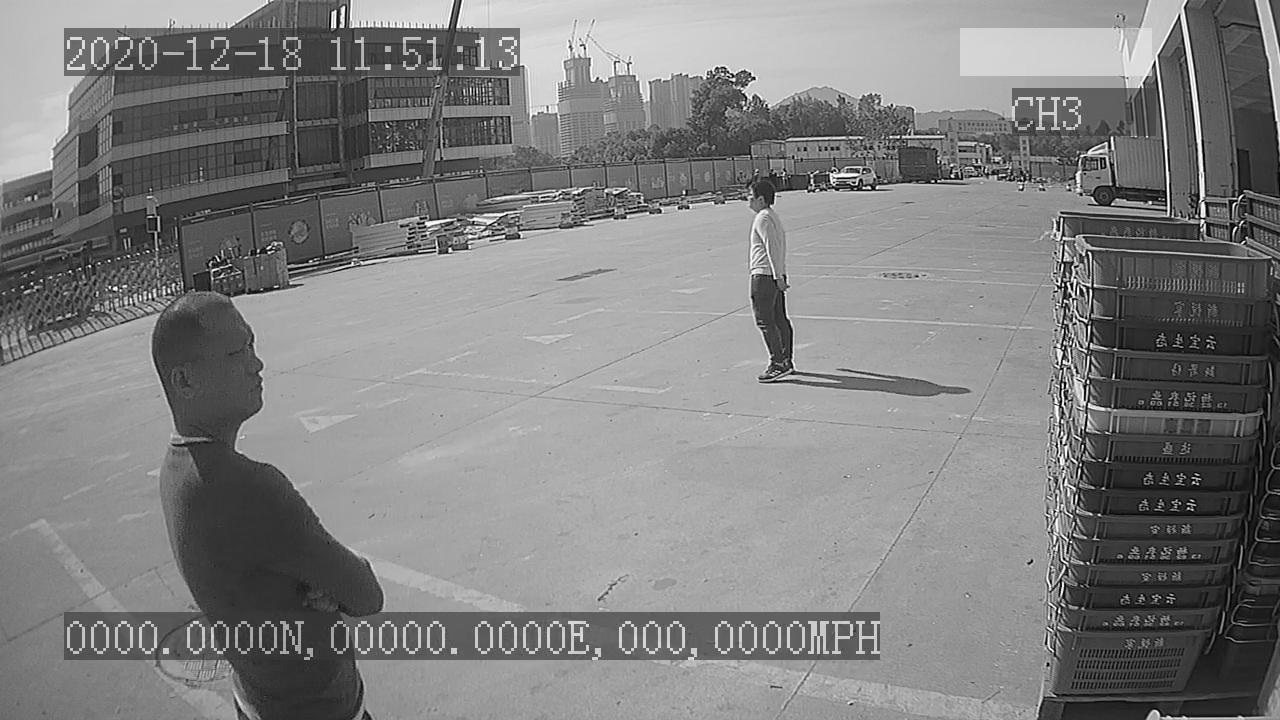person: (740, 177, 804, 390)
